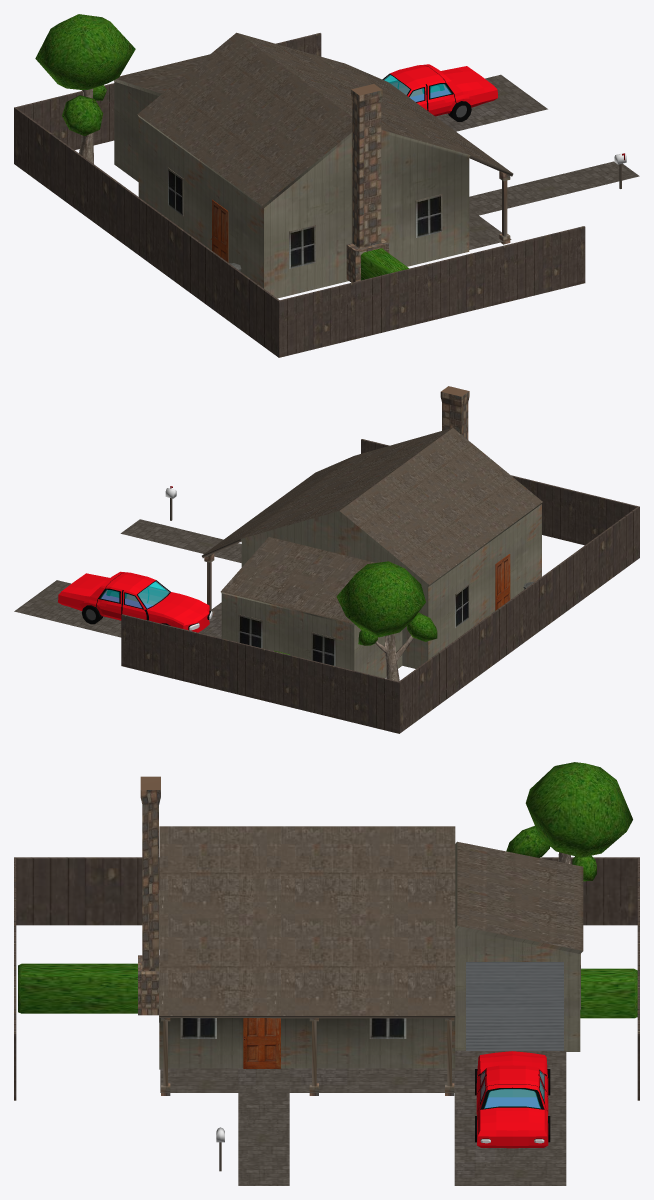
Rendered from House 2.fbx.
The picture shows the model from 3 angles, top to bottom: view 1: azimuth 30°, elevation 25°; view 2: azimuth 150°, elevation 25°; view 3: azimuth 270°, elevation 25°; orthographic projection. The views are drawn at different scales.
Visible parts, largest first — view 1: Building, Fence.001, Tree.001, Sidewalk.001, Car.001, Window.012, Window.007, Hedges.002, Door.004, Window.006; view 2: Building, Fence.001, Tree.001, Car.001, Sidewalk.001, Door.004, Window.008, Window.011, Window.006; view 3: Building, Sidewalk.001, Fence.001, Hedges.002, Tree.001, GarageDoor, Car.001, Door.003, Window.010, Window.009.
Part boxes in pixels (x1,y1,x2,y2): Building: (114,32,513,298); Fence.001: (14,33,585,357); Tree.001: (35,14,135,163); Sidewalk.001: (435,74,639,249); Car.001: (382,64,497,121); Window.012: (415,194,442,237); Window.007: (289,225,315,268); Hedges.002: (361,248,409,280); Door.004: (211,199,228,262); Window.006: (168,167,183,216); Building: (202,386,542,677); Fence.001: (121,439,639,733); Tree.001: (336,561,437,681); Car.001: (58,571,212,632); Sidewalk.001: (14,519,241,638); Door.004: (495,554,510,610); Window.008: (238,614,262,648); Window.011: (311,632,335,665); Window.006: (455,584,469,627); Building: (138,776,583,1095); Sidewalk.001: (160,1050,566,1185); Fence.001: (14,857,639,1100); Hedges.002: (18,963,637,1018); Tree.001: (506,762,632,881); GarageDoor: (466,962,563,1050); Car.001: (475,1051,550,1148); Door.003: (243,1018,280,1068); Window.010: (369,1018,406,1038); Window.009: (180,1018,216,1038).
Size of the model in its own units: 1013 by 408 by 1020.
